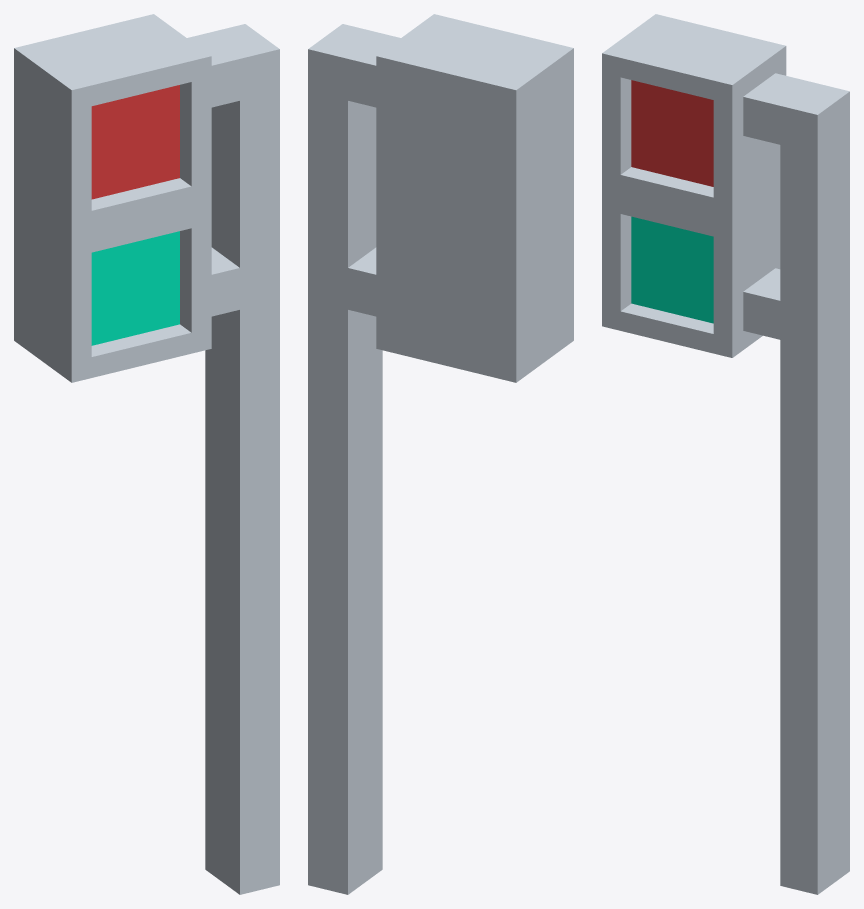
File: singouki2.obj
The picture shows the model from 3 angles, left to right: view 1: azimuth 30°, elevation 25°; view 2: azimuth 150°, elevation 25°; view 3: azimuth 330°, elevation 25°; orthographic projection. The views are drawn at different scales.
Size of the model in its own units: 1.1 by 4.1 by 0.5.
1 material, 1 textured.
